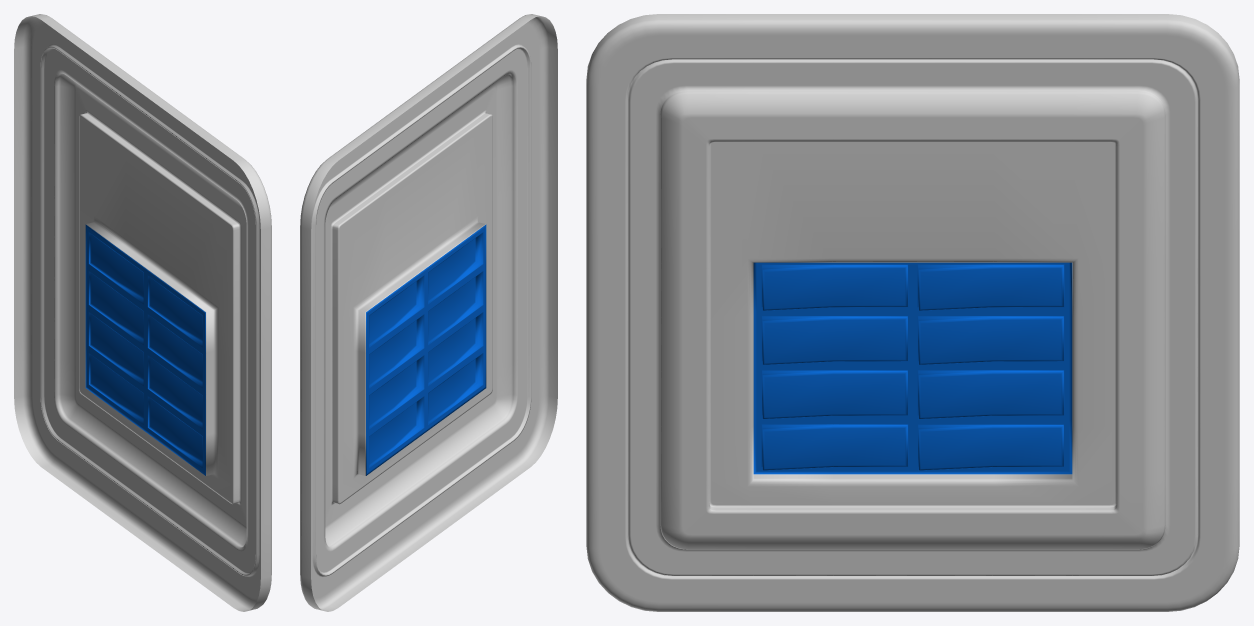
File: electricPanel.fbx
3 renders of one model, left to right at view 1: azimuth 30°, elevation 25°; view 2: azimuth 150°, elevation 25°; view 3: azimuth 270°, elevation 25°, orthographic. The views are drawn at different scales.
Parts seen in each view (by area): view 1: ElectricPanel; view 2: ElectricPanel; view 3: ElectricPanel.
Boxes of the visible parts, x1,y1,x2,y2 form: ElectricPanel: (14, 14, 271, 611); ElectricPanel: (300, 14, 557, 611); ElectricPanel: (586, 14, 1239, 611).
Bounding box in the file's own units: 3.61 × 60 × 60.
